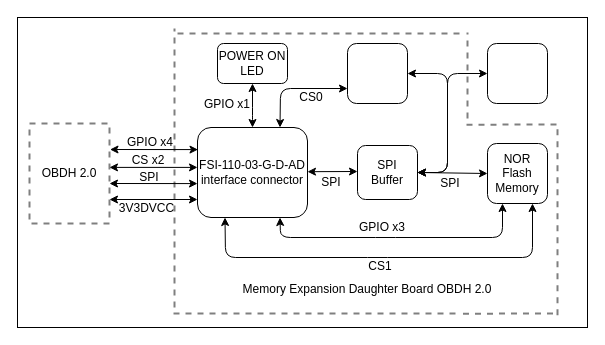
This 605x345 diagram has some shape labels left out. Here are the shapes that lost their labels. From the top down, the centre of each, then its label:
At point 377,73: "MICRO SD Card SLOT".
At point 517,73: "DEBUG SPI".
